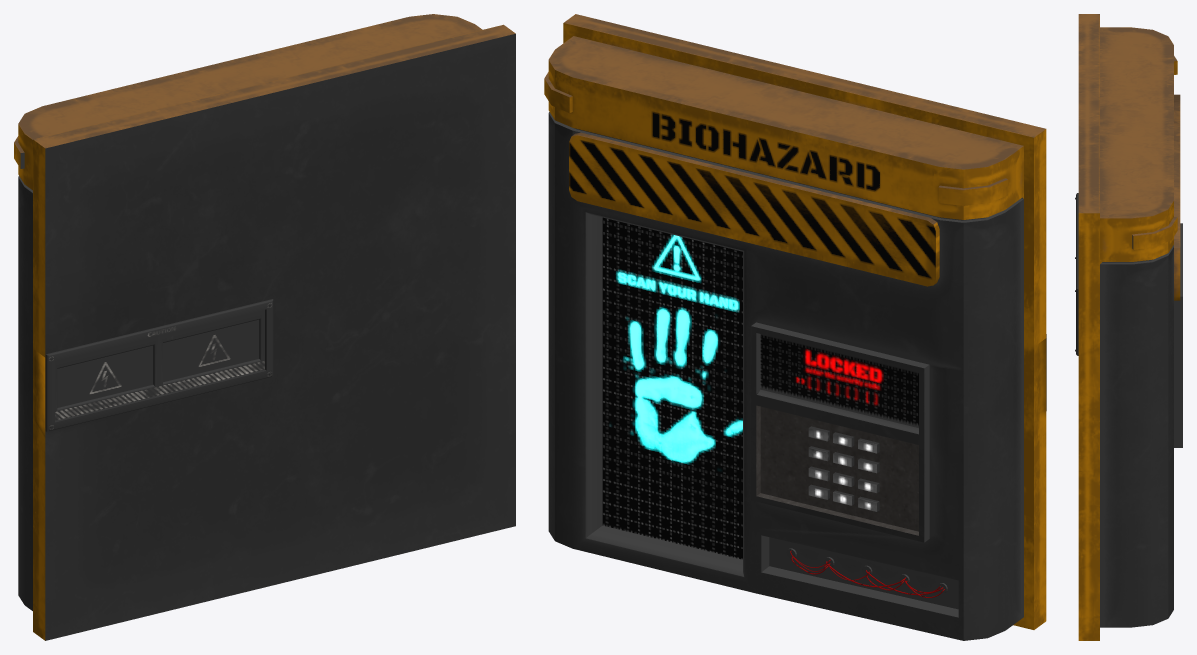
The model's file is Hand_scaner.fbx.
3 views of the same model, side by side, from view 1: azimuth 30°, elevation 25°; view 2: azimuth 150°, elevation 25°; view 3: azimuth 270°, elevation 25° (orthographic). The views are drawn at different scales.
Parts seen in each view (by area): view 1: door_panel, Hand_scaner_back; view 2: door_panel; view 3: door_panel, Hand_scaner_back.
Boxes of the visible parts, <box> form: door_panel: <box>14,14,515,640</box>; Hand_scaner_back: <box>45,299,273,431</box>; door_panel: <box>544,14,1046,640</box>; door_panel: <box>1078,14,1182,640</box>; Hand_scaner_back: <box>1075,193,1078,355</box>.
Size of the model in its own units: 25.13 by 25.13 by 5.74.
2 materials, 2 textured.
